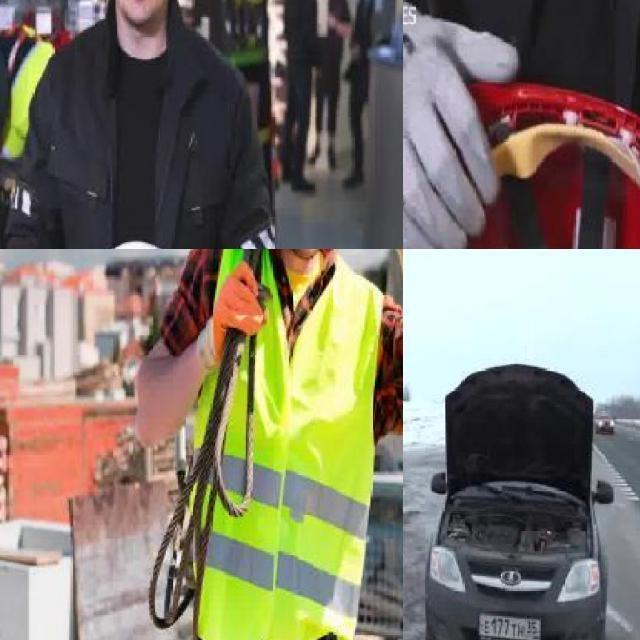apron: (403, 0, 517, 249), (194, 260, 268, 376)
